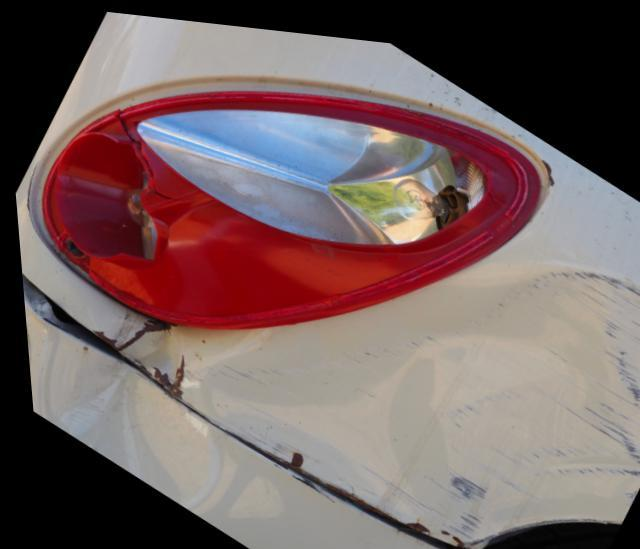dent: (108, 245, 640, 541), (34, 327, 207, 507)
lamp broken: (29, 80, 543, 324)
